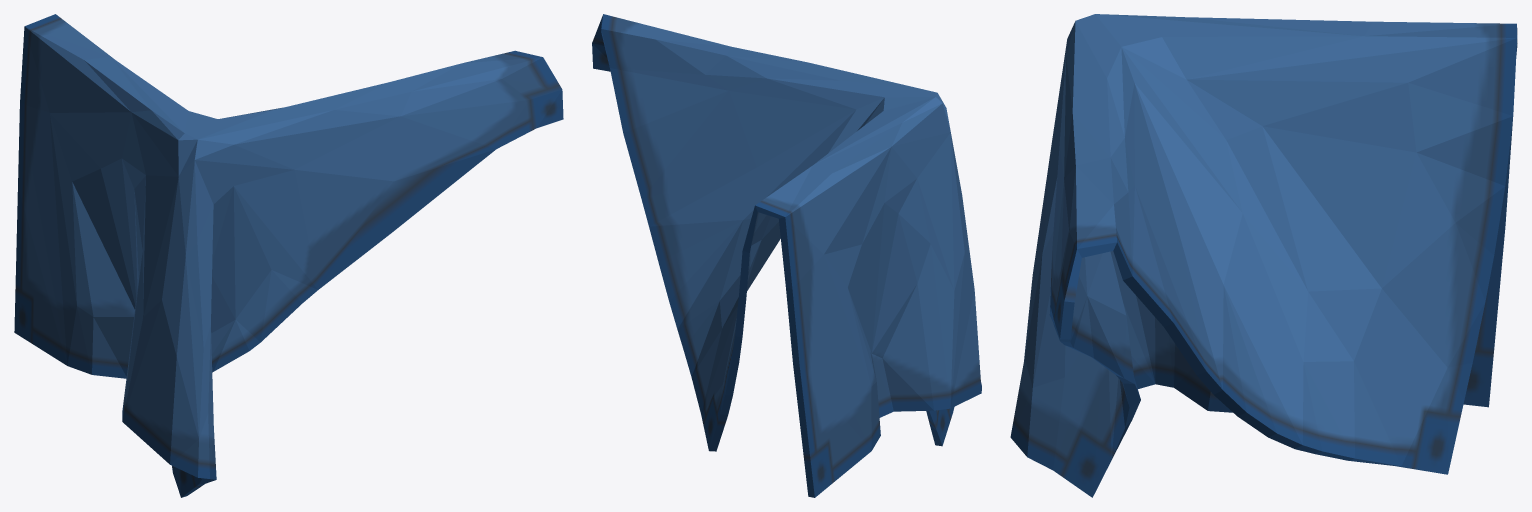
Rendered from SM_Prop_Skip_Large_02_Tarp.fbx.
The picture shows the model from 3 angles, left to right: view 1: azimuth 30°, elevation 25°; view 2: azimuth 150°, elevation 25°; view 3: azimuth 270°, elevation 25°; orthographic projection. The views are drawn at different scales.
Parts seen in each view (by area): view 1: SM_Prop_Skip_Large_02_Tarp; view 2: SM_Prop_Skip_Large_02_Tarp; view 3: SM_Prop_Skip_Large_02_Tarp.
Boxes of the visible parts, x1,y1,x2,y2 form: SM_Prop_Skip_Large_02_Tarp: [14, 14, 563, 497]; SM_Prop_Skip_Large_02_Tarp: [592, 14, 981, 497]; SM_Prop_Skip_Large_02_Tarp: [1010, 14, 1517, 497].
Size of the model in its own units: 145 by 124 by 118.
